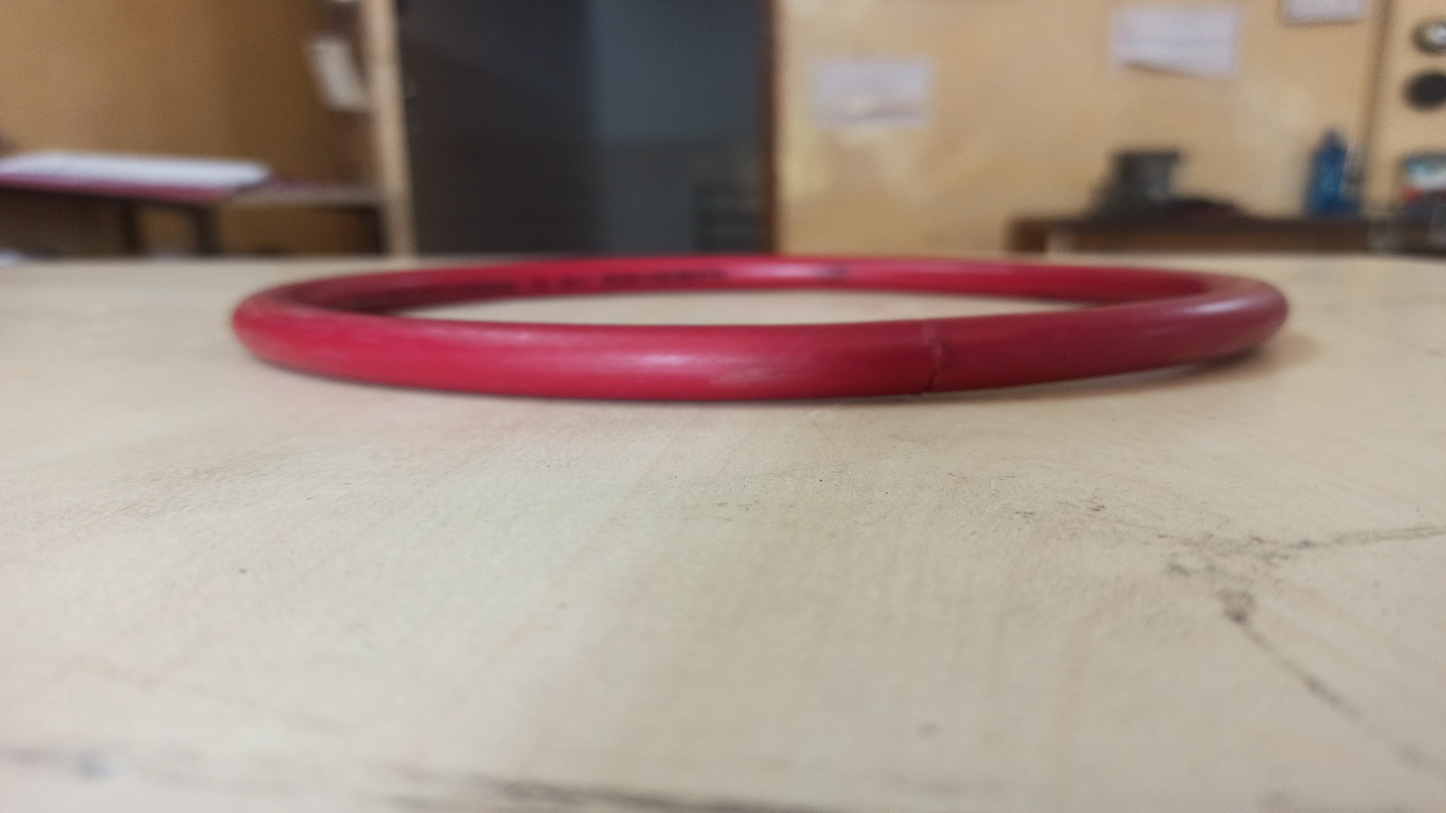Red ring: (230, 252, 1286, 402)
